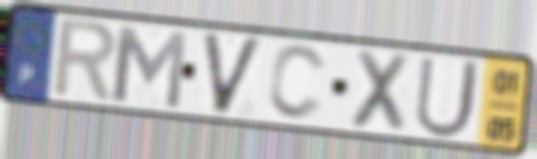C: (264, 42, 330, 124)
M: (110, 22, 190, 113)
R: (48, 16, 122, 107)
U: (412, 53, 484, 142)
V: (199, 29, 267, 119)
X: (346, 46, 414, 137)
